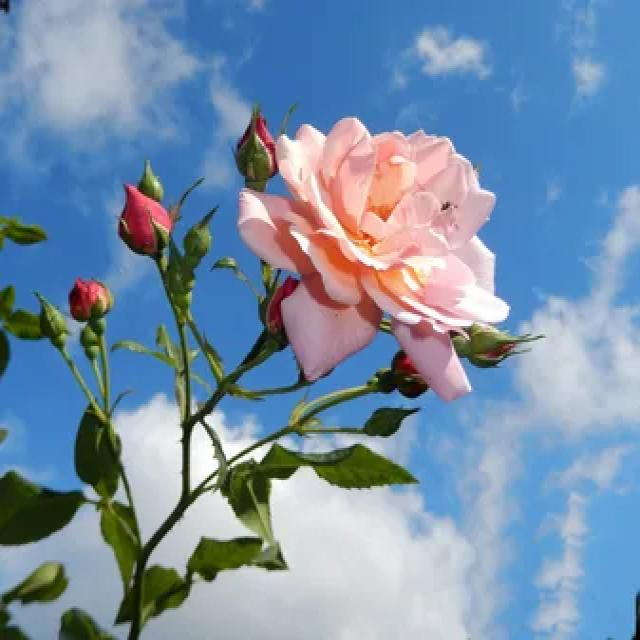rose: (230, 104, 520, 407)
